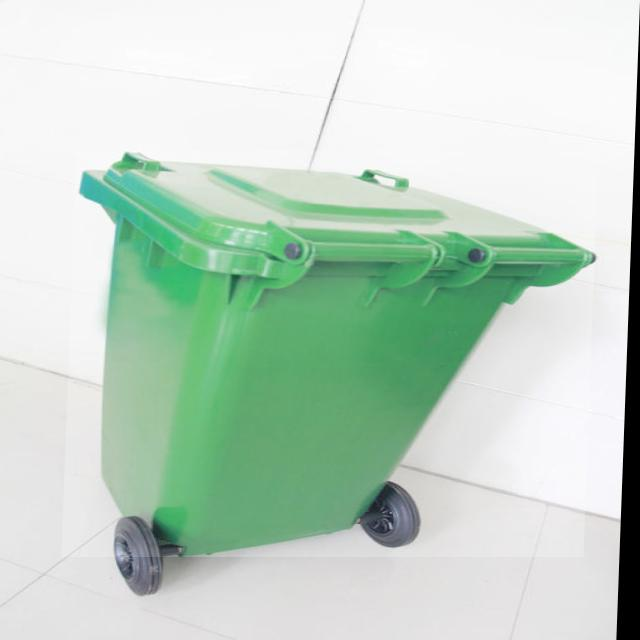garbage_bin: (66, 150, 600, 557)
